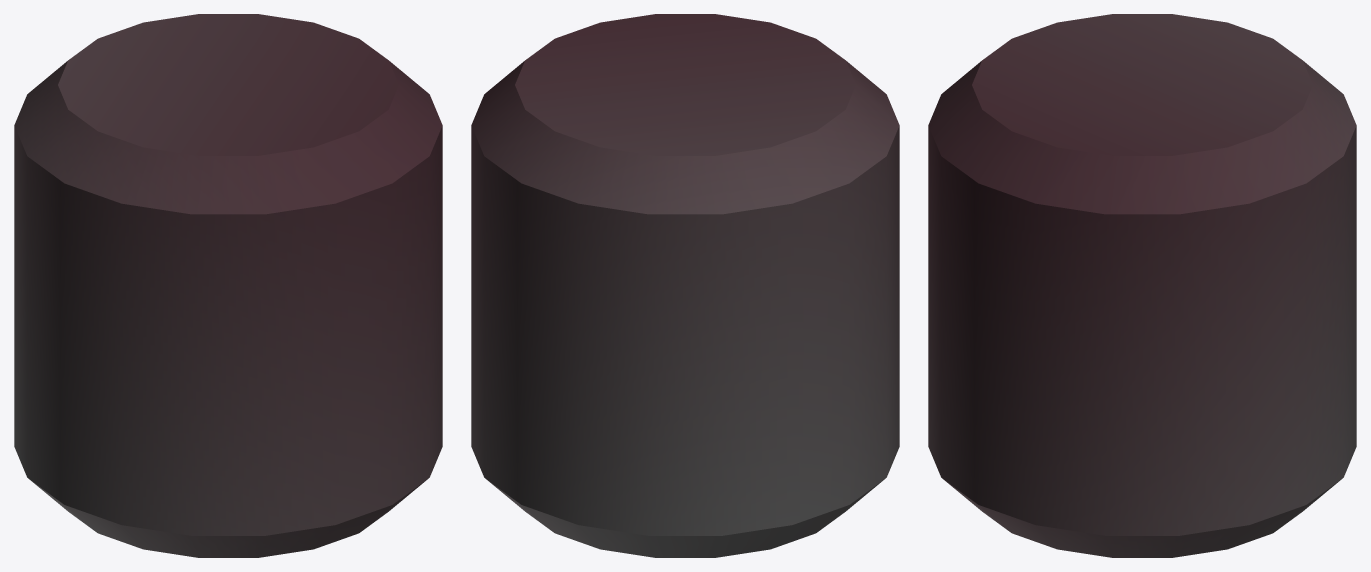
File: Bixite.fbx
The picture shows the model from 3 angles, left to right: view 1: azimuth 30°, elevation 25°; view 2: azimuth 150°, elevation 25°; view 3: azimuth 270°, elevation 25°; orthographic projection.
Parts seen in each view (by area): view 1: BIXITE.001; view 2: BIXITE.001; view 3: BIXITE.001.
Boxes of the visible parts, box(x1,y1,x2,y2) form: BIXITE.001: box(14, 14, 442, 557); BIXITE.001: box(471, 14, 899, 557); BIXITE.001: box(928, 14, 1356, 557).
Bounding box in the file's own units: 148 × 155 × 150.
1 material, 1 textured.
